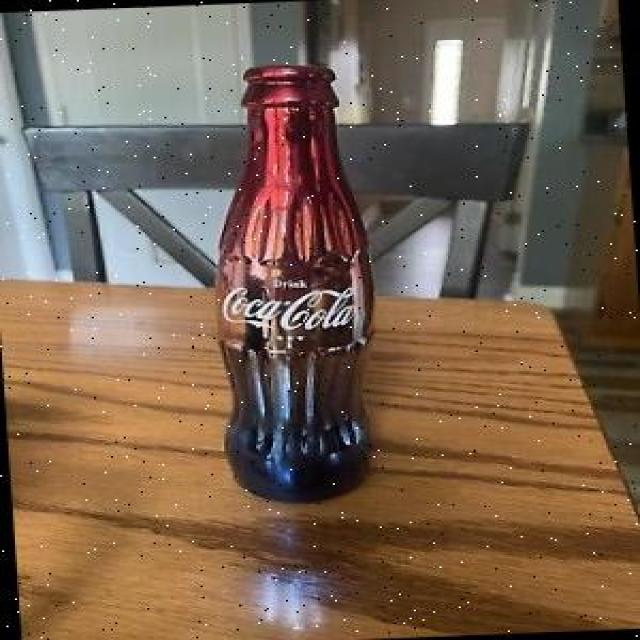coca-cola: (190, 50, 395, 504)
